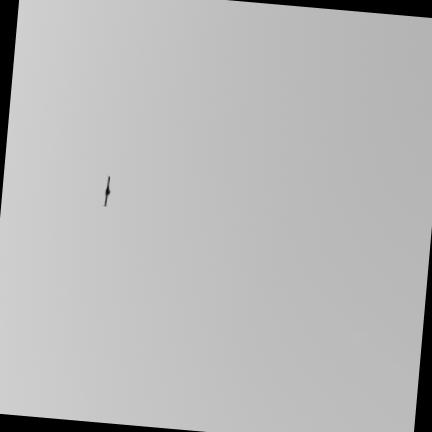Shahed: (102, 176, 110, 206)
